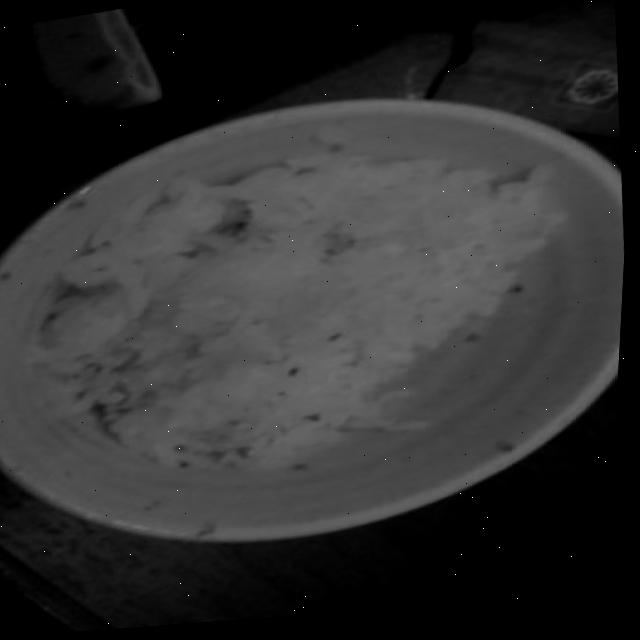米饭主食: (0, 105, 612, 533)
